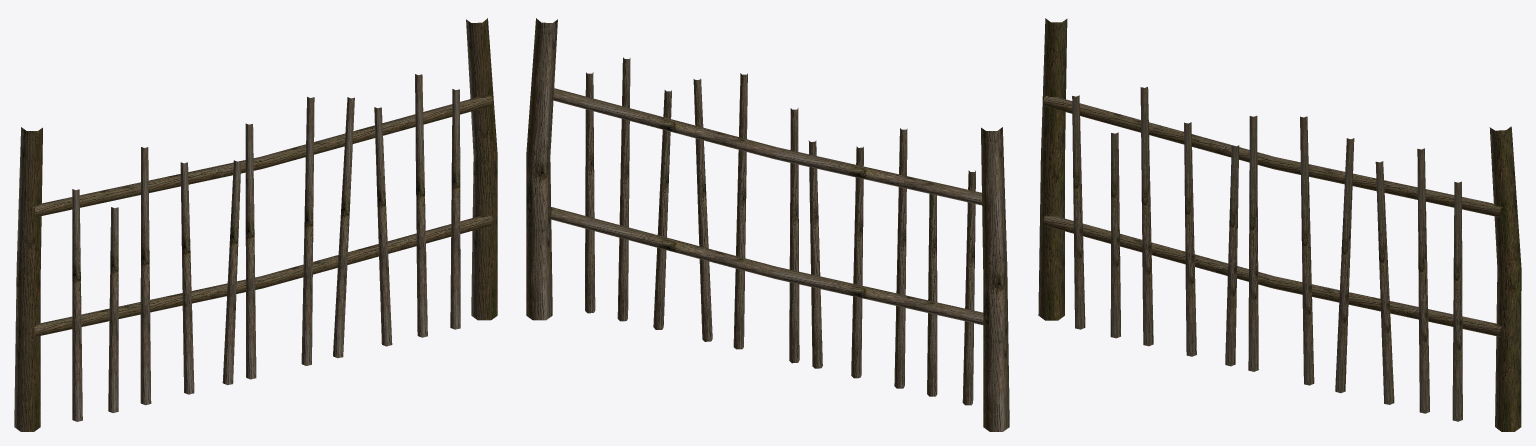
File: fence_stick.glb
3 renders of one model, left to right at view 1: azimuth 30°, elevation 25°; view 2: azimuth 150°, elevation 25°; view 3: azimuth 330°, elevation 25°, orthographic.
Parts seen in each view (by area): view 1: fence_stick; view 2: fence_stick; view 3: fence_stick.
Part boxes in pixels (x1,y1,x2,y2): fence_stick: (14,18,497,431); fence_stick: (526,18,1009,431); fence_stick: (1038,18,1521,431).
Bounding box in the file's own units: 2.51 × 1.5 × 0.2169.
1 material, 1 textured.
